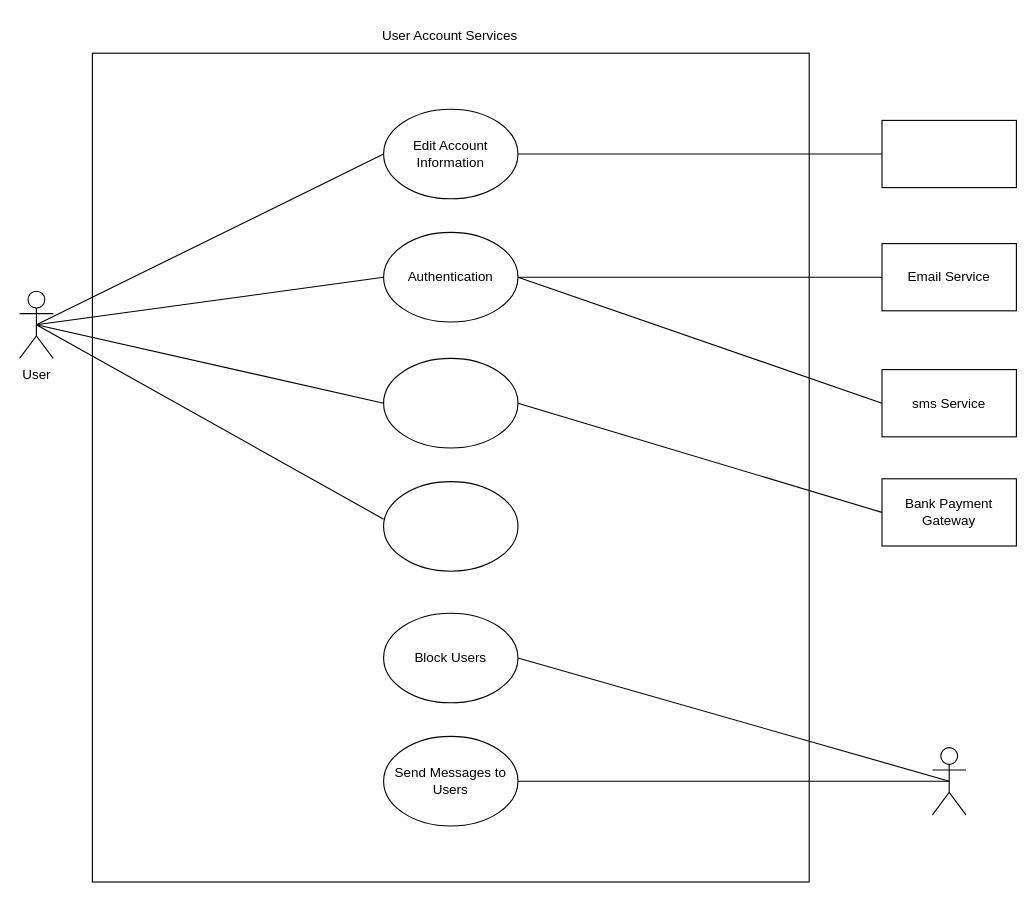
The diagram is 1036 pixels wide and 902 high, and some of its shapes have lost their labels. The centre of each missing label's shape, as x and y in pixels:
"Administrator" belongs at (x=948, y=780).
"Buy a Subscription" belongs at (x=450, y=402).
"Social Medias" belongs at (x=948, y=153).
"View Payment History" belongs at (x=450, y=525).
